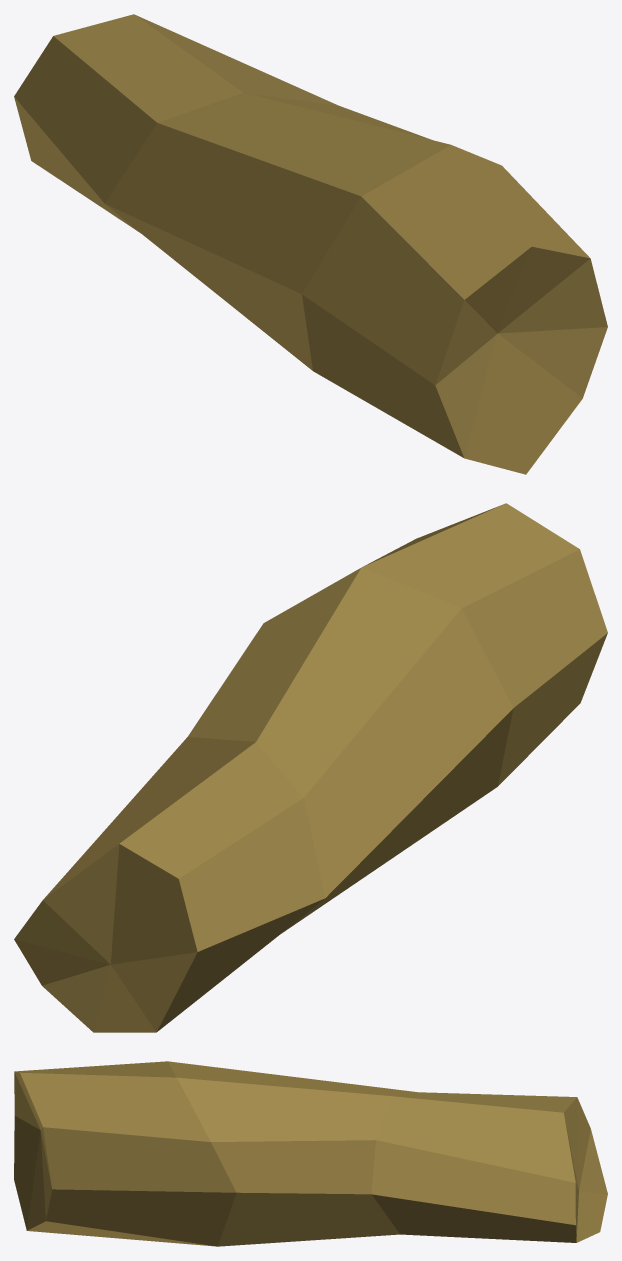
Rendered from Detail2.fbx.
3 renders of one model, top to bottom at view 1: azimuth 30°, elevation 25°; view 2: azimuth 150°, elevation 25°; view 3: azimuth 270°, elevation 25°, orthographic. The views are drawn at different scales.
Parts seen in each view (by area): view 1: Cylinder; view 2: Cylinder; view 3: Cylinder.
Boxes of the visible parts, <box> form: Cylinder: <box>14,14,607,474</box>; Cylinder: <box>14,503,607,1032</box>; Cylinder: <box>14,1061,607,1246</box>.
Bounding box in the file's own units: 145 × 140 × 455.
